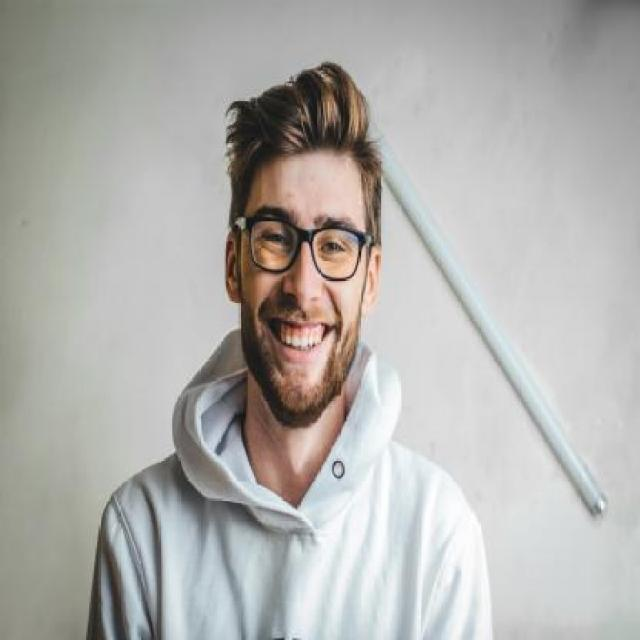mask: (234, 195, 378, 288)
